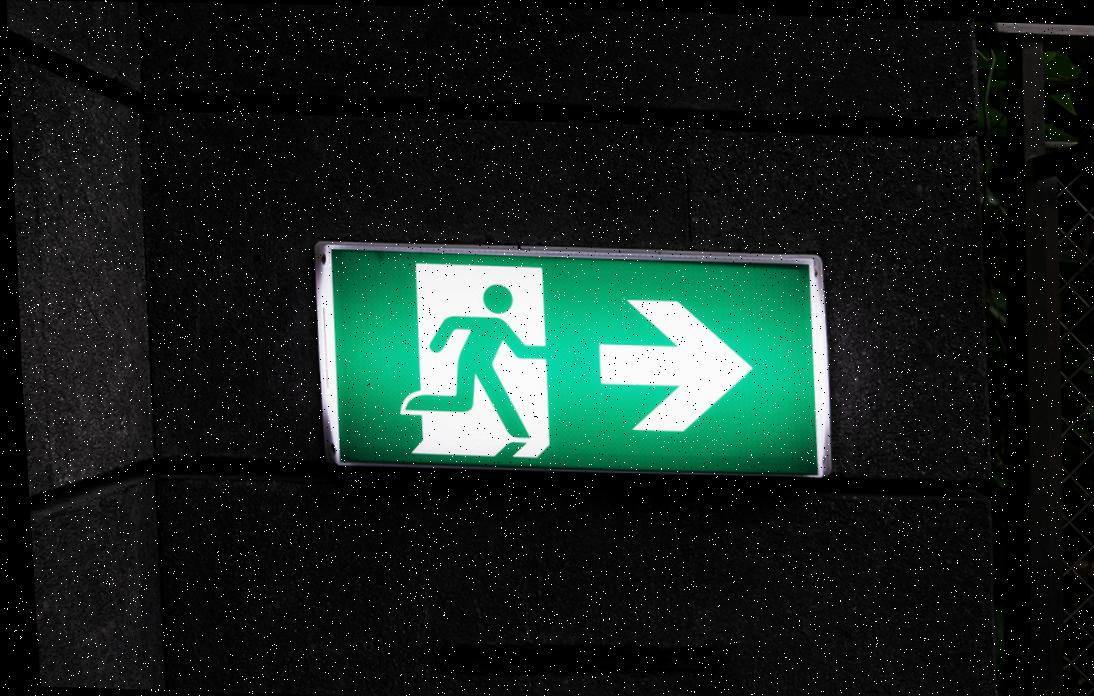emergency_exit: (314, 240, 832, 478)
